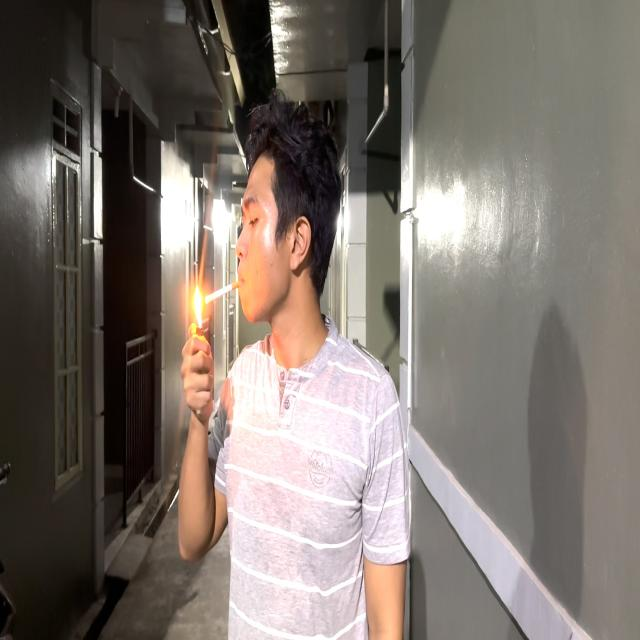cigarette: (202, 276, 242, 309)
smoking: (178, 126, 340, 563)
